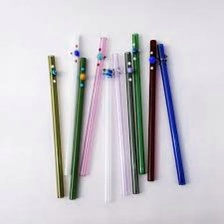drinking_straw: (75, 32, 110, 180), (154, 39, 187, 186), (41, 50, 68, 200), (128, 31, 150, 176)
